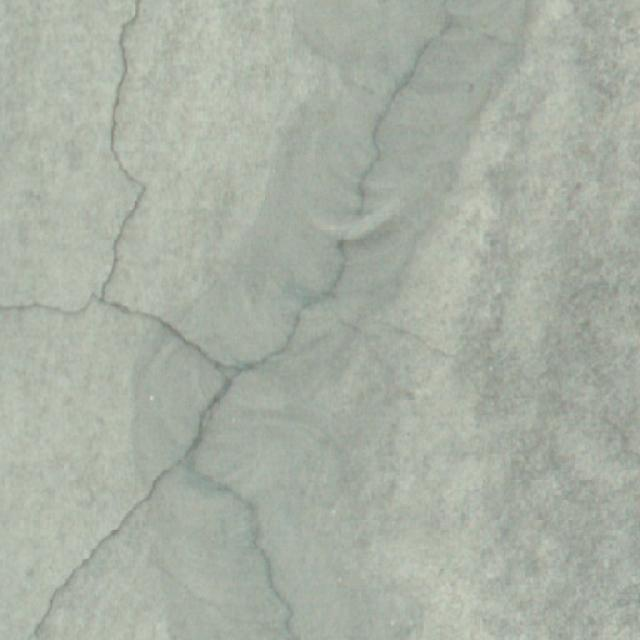Network: (3, 0, 465, 640)
